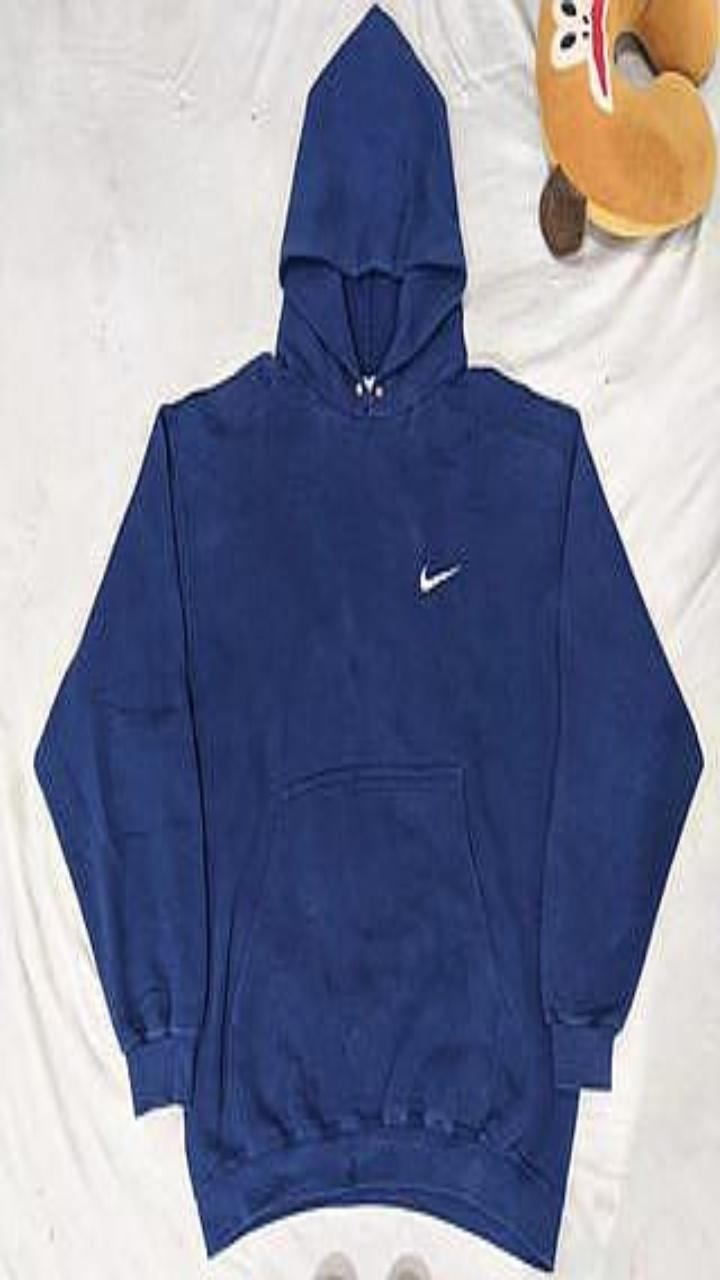Hoodie: (35, 7, 701, 1268)
